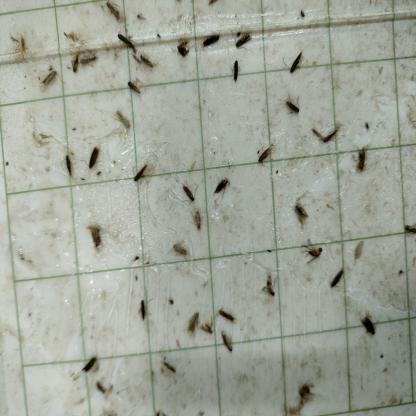prays_oleae: (260, 265, 285, 306), (356, 307, 378, 349), (113, 100, 133, 142), (301, 232, 323, 270), (290, 194, 311, 232), (37, 62, 59, 97), (162, 357, 185, 388), (352, 142, 370, 178), (168, 232, 187, 264), (80, 48, 102, 75), (200, 310, 218, 342), (221, 328, 239, 360), (115, 28, 138, 53), (178, 178, 198, 206), (138, 50, 156, 81), (86, 142, 104, 172), (184, 307, 200, 338), (328, 268, 346, 295), (132, 163, 152, 187), (79, 349, 99, 372), (250, 146, 275, 164), (288, 48, 304, 76), (234, 27, 250, 55), (203, 29, 220, 54), (286, 90, 300, 120), (65, 50, 80, 78), (216, 303, 233, 327), (192, 206, 206, 235), (212, 178, 232, 198), (320, 128, 338, 150), (137, 298, 149, 326), (106, 3, 122, 22), (63, 154, 74, 180), (228, 54, 239, 80), (94, 380, 107, 396), (128, 82, 142, 94)
